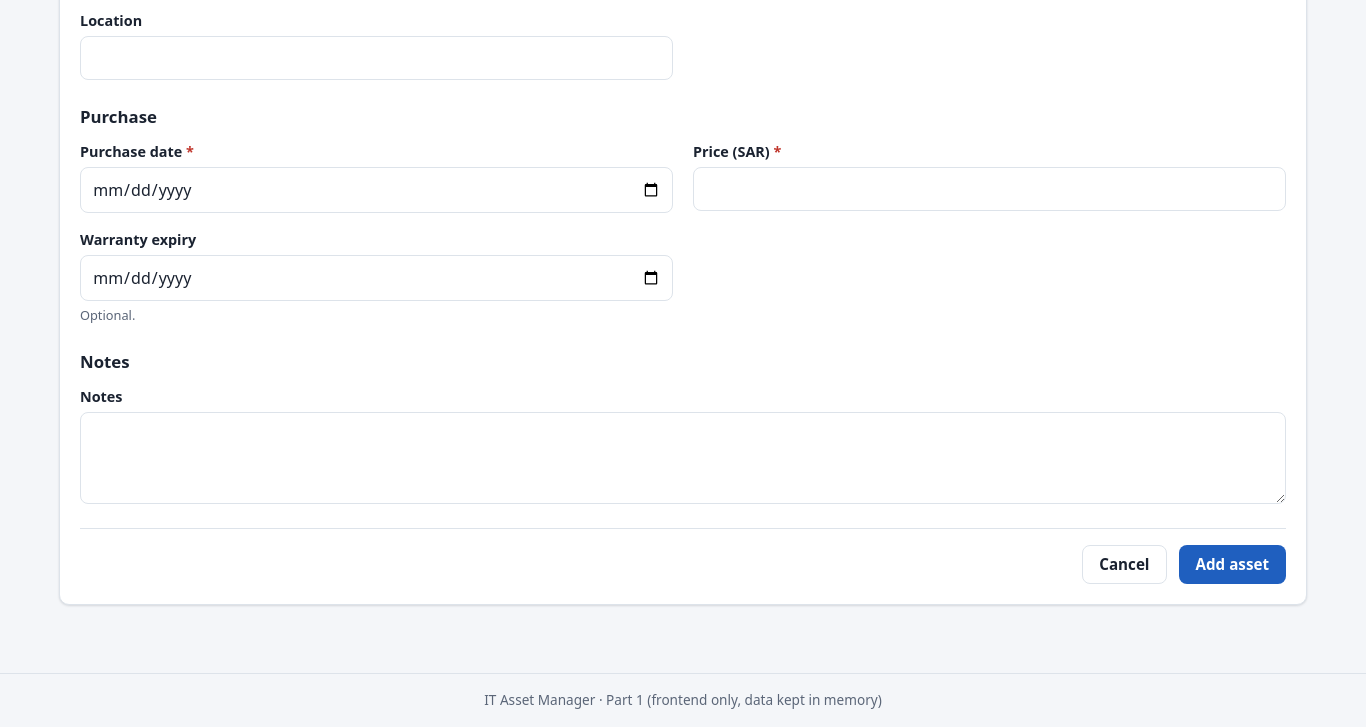
Test: add assets › shows errors and does not save when required fields are empty
(page scrolled)
Click the button "Add asset" at [1232, 565], box [1178,545,1286,584]
(page scrolled)
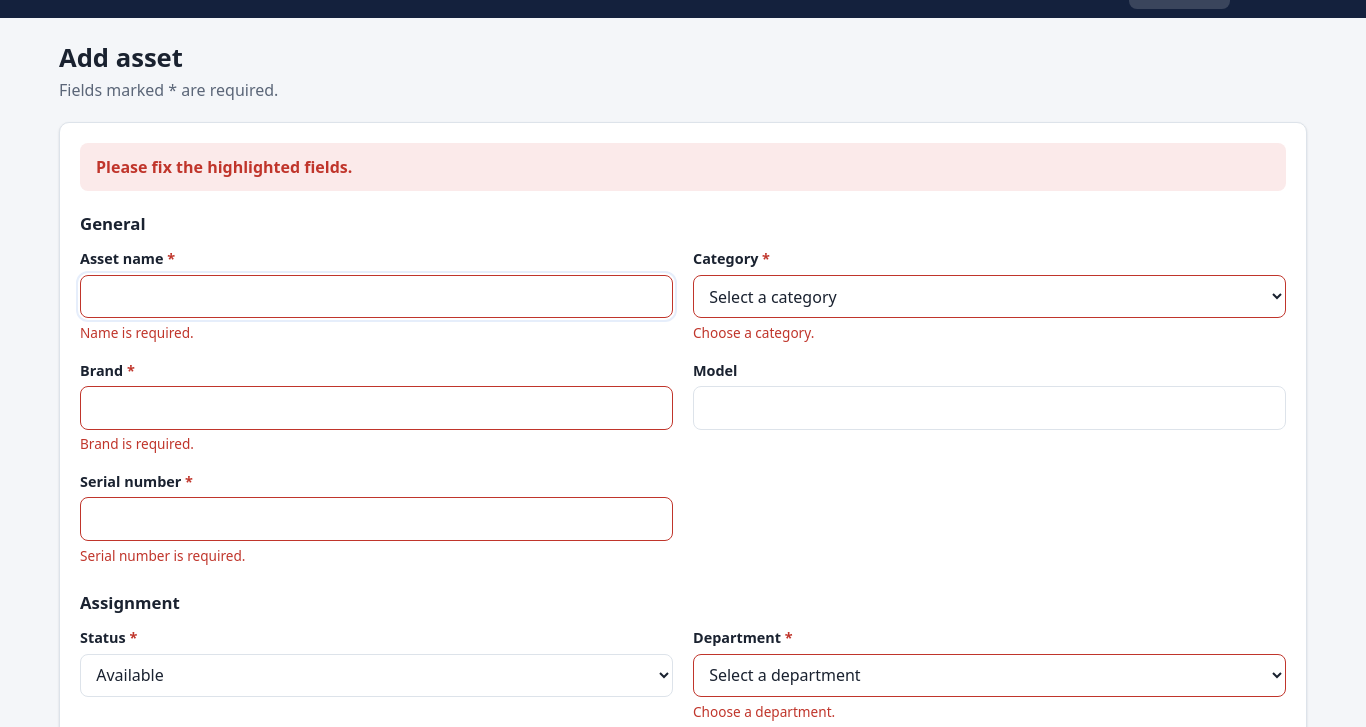
Result: the message reads "Please fix the highlighted fields." at [96,156,352,178]
Result: the text "Name is required." is shown at [80,323,194,342]
Result: the text "Serial number is required." is shown at [80,546,246,564]
